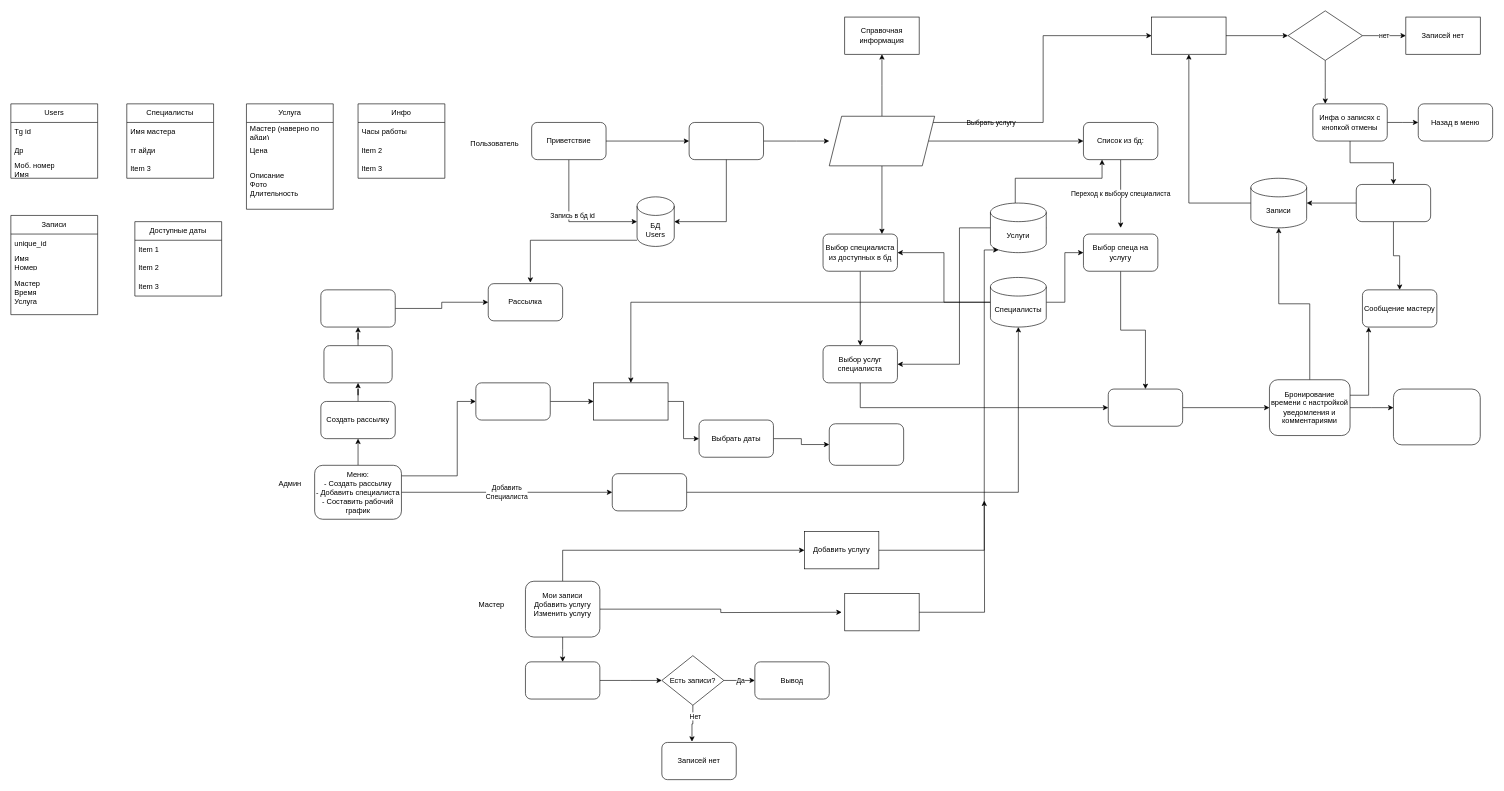
Image size: 1504x791. Some labels were removed from this diagram. Here are the shapes that lost their labels. From the top down, the centre of each, then its label:
At [1188,35]: "Посмотреть записи".
At [1324,35]: "Записи есть?".
At [726,141]: "Регистрация: Ввод Имени и даты рождения".
At [882,141]: "Меню: Выбрать услугу Выбрать специалиста О нас Просмотр записей".
At [1393,203]: "Отменить".
At [357,308]: "Подтверждение".
At [357,364]: "Ввод текста рассылки".
At [512,401]: "Составить рабочий график".
At [630,401]: "Выбрать специалиста".
At [1145,407]: "Выбор свободной даты".
At [1436,416]: "Отправка уведомления (При необходимости)".
At [866,444]: "Выбрать часы ... ... Все".
At [649,492]: "ник тг".
At [881,612]: "Изменить услугу".
At [562,680]: "Сегодня Завтра Все".
